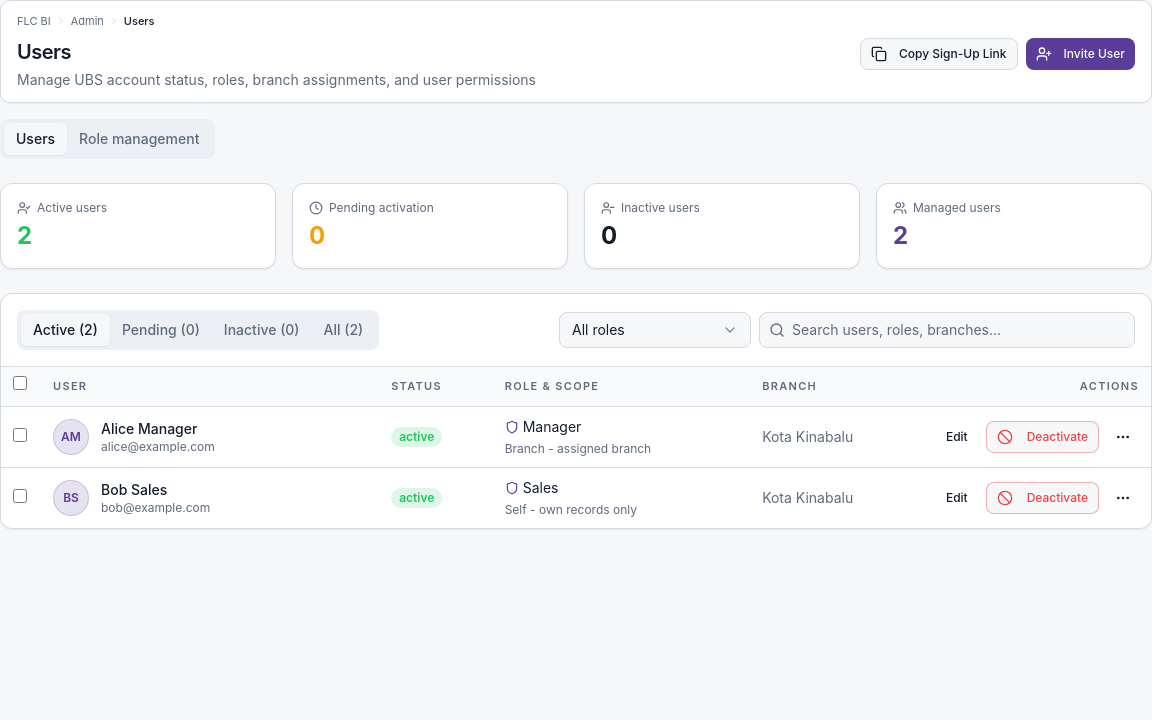
Test case: UserManagement › renders the user list and filters it by search text
Expected: the text "Alice Manager" is shown, [101, 420, 197, 437]
Expected: the text "Bob Sales" is shown, [101, 481, 167, 498]
Type "alice" into the field with placeholder "Search users, roles, branches..." at (947, 330), box [759, 312, 1135, 348]
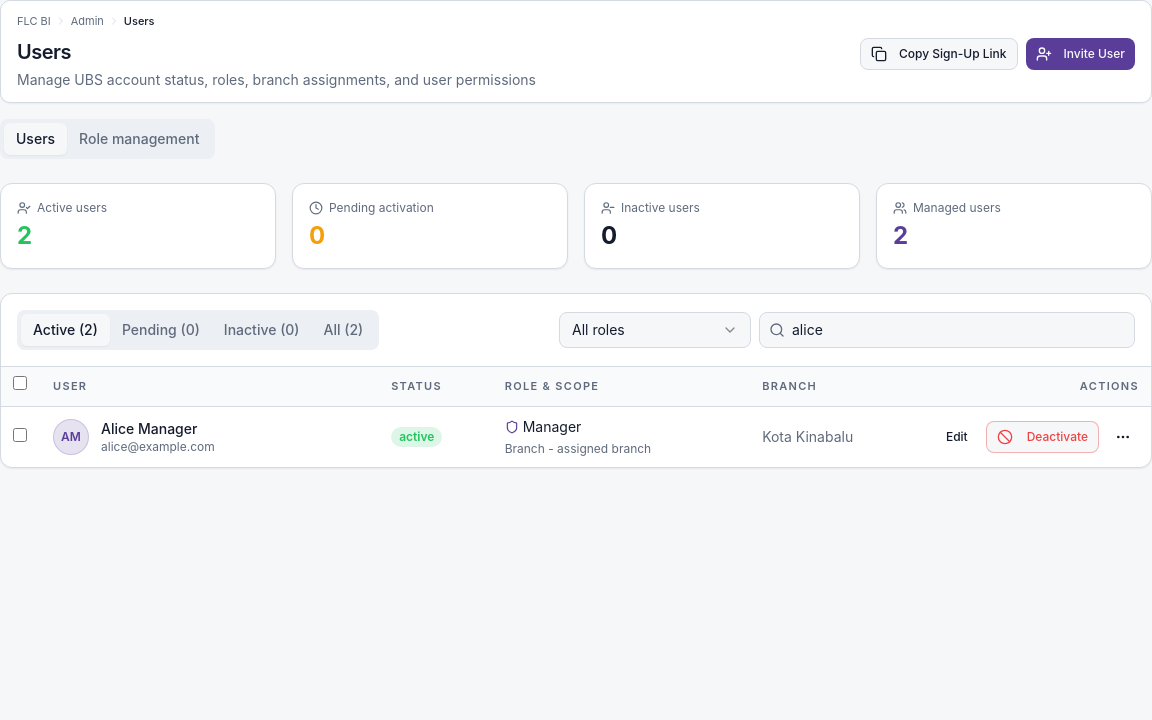
Expected: the text "Alice Manager" is shown, [101, 420, 197, 437]
Now the text "Bob Sales" is gone
